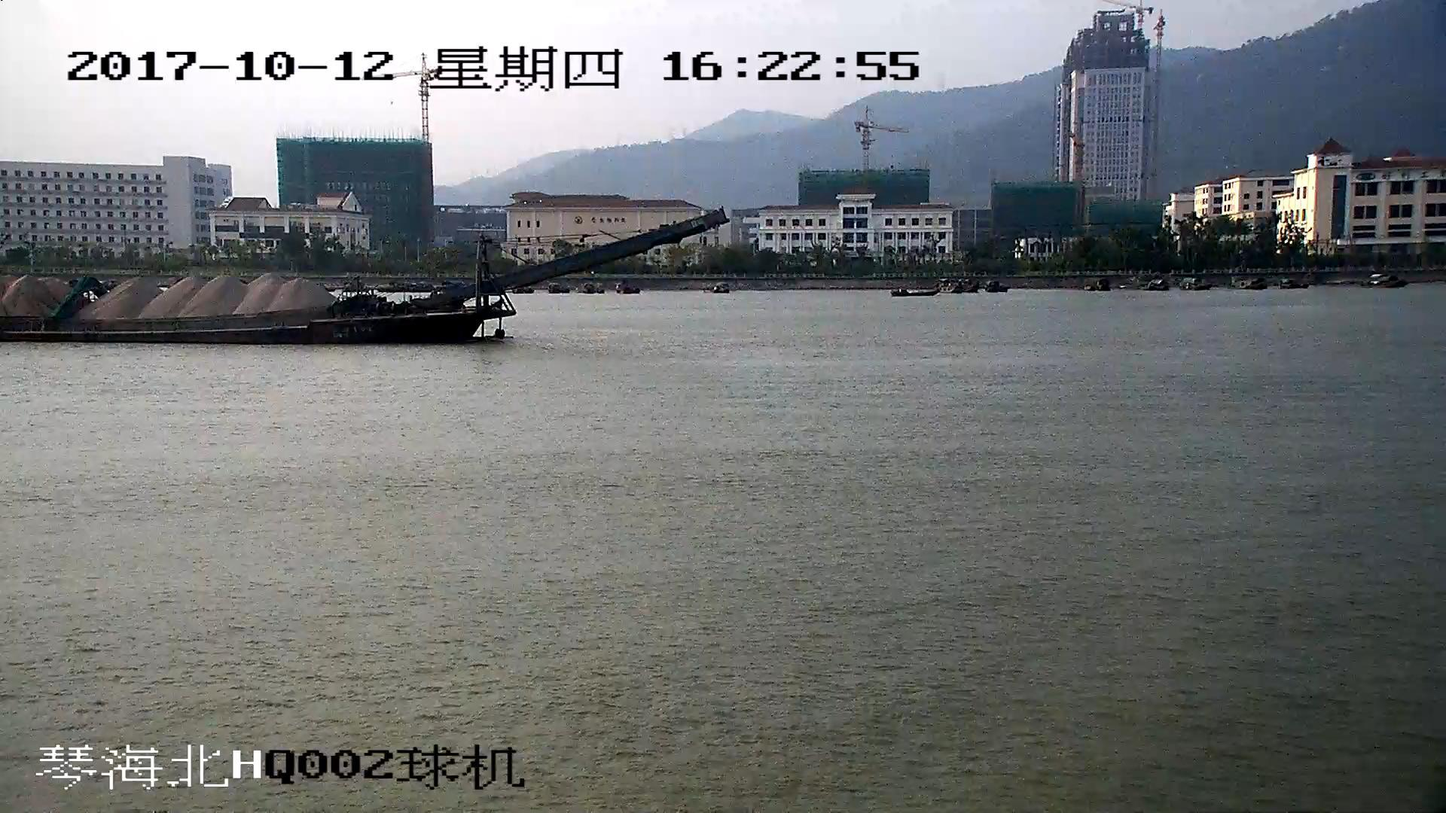ore carrier: (0, 212, 721, 341)
